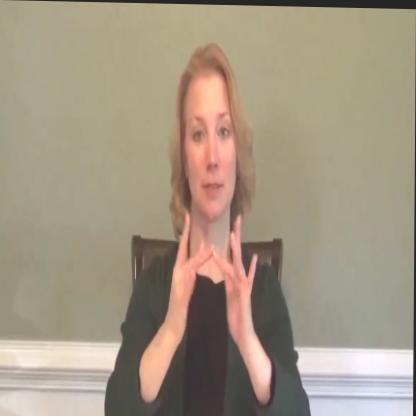Internet: (168, 206, 262, 356)
